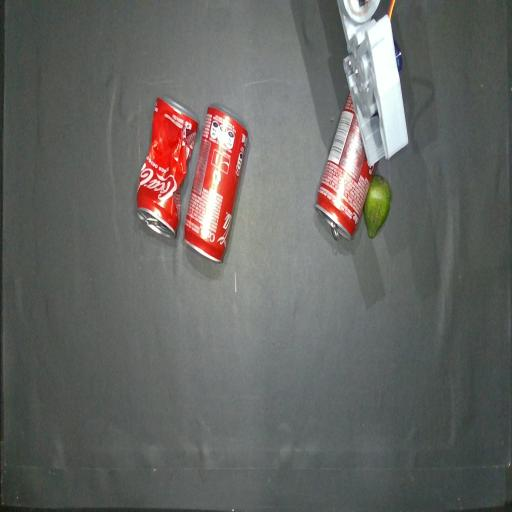higo: (363, 174, 391, 238)
lata: (185, 106, 248, 262), (315, 95, 373, 239)
lata_defectuoso: (137, 97, 198, 237)
